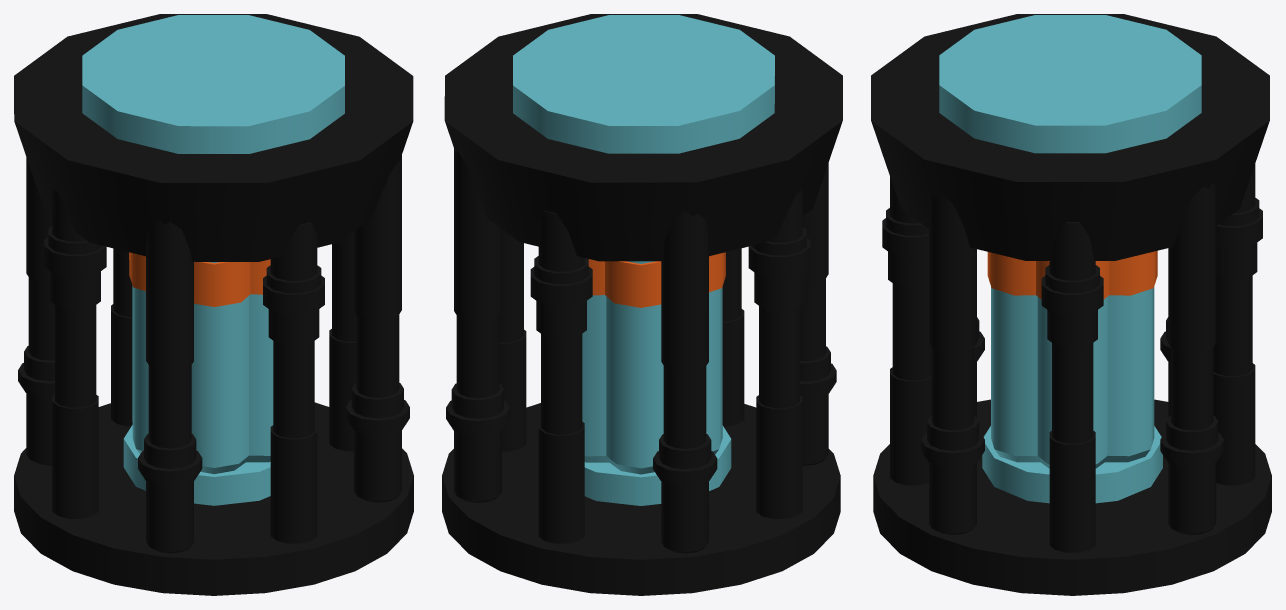
Rendered from Pico_PowerCell.glb.
3 renders of one model, left to right at view 1: azimuth 30°, elevation 25°; view 2: azimuth 150°, elevation 25°; view 3: azimuth 270°, elevation 25°, orthographic.
Visible parts, largest first — view 1: mergedBlocks(Clone); view 2: mergedBlocks(Clone); view 3: mergedBlocks(Clone).
Part boxes in pixels (bbox=[...]): mergedBlocks(Clone): bbox=[14, 14, 413, 595]; mergedBlocks(Clone): bbox=[442, 14, 842, 595]; mergedBlocks(Clone): bbox=[871, 14, 1271, 595].
Size of the model in its own units: 1 by 1.22 by 1.01.
1 material, 1 textured.
